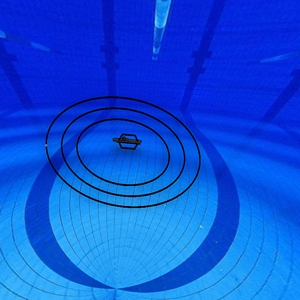circle: (44, 94, 203, 213)
submarine: (112, 134, 147, 151)
